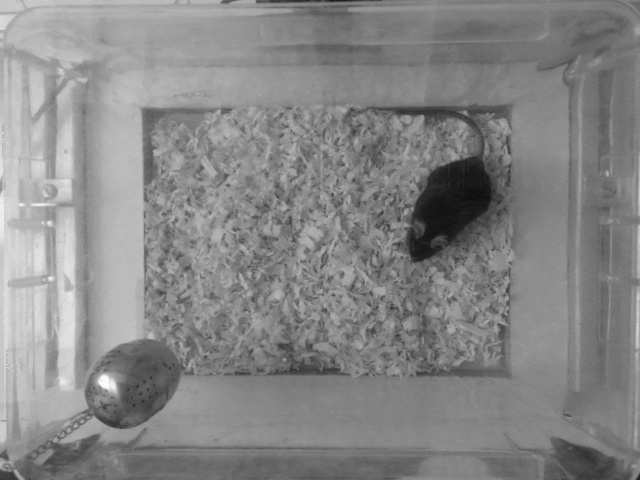mice: (367, 108, 506, 262)
